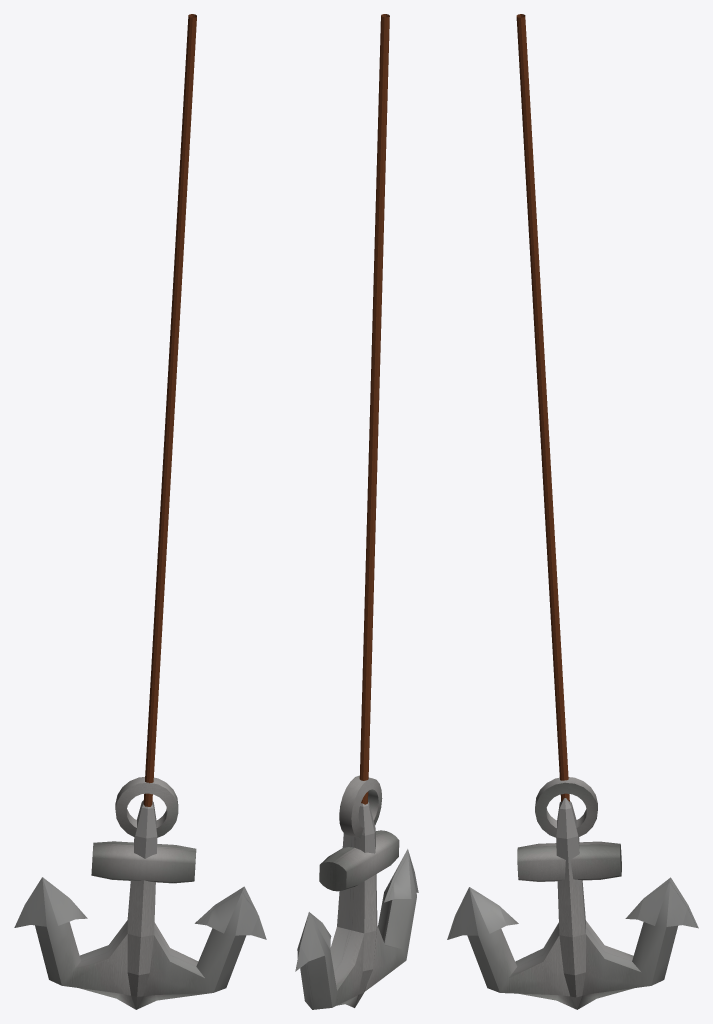
The model's file is Anchor.fbx.
The picture shows the model from 3 angles, left to right: view 1: azimuth 90°, elevation 25°; view 2: azimuth 150°, elevation 25°; view 3: azimuth 270°, elevation 25°; orthographic projection. The views are drawn at different scales.
Visible parts, largest first — view 1: M_Anchor; view 2: M_Anchor; view 3: M_Anchor.
Boxes of the visible parts, bbox=[...] form: M_Anchor: bbox=[14, 14, 266, 1009]; M_Anchor: bbox=[295, 14, 418, 1009]; M_Anchor: bbox=[447, 14, 698, 1009].
Bounding box in the file's own units: 31.16 × 746 × 172.
Materials: 1 (1 with a texture image).
